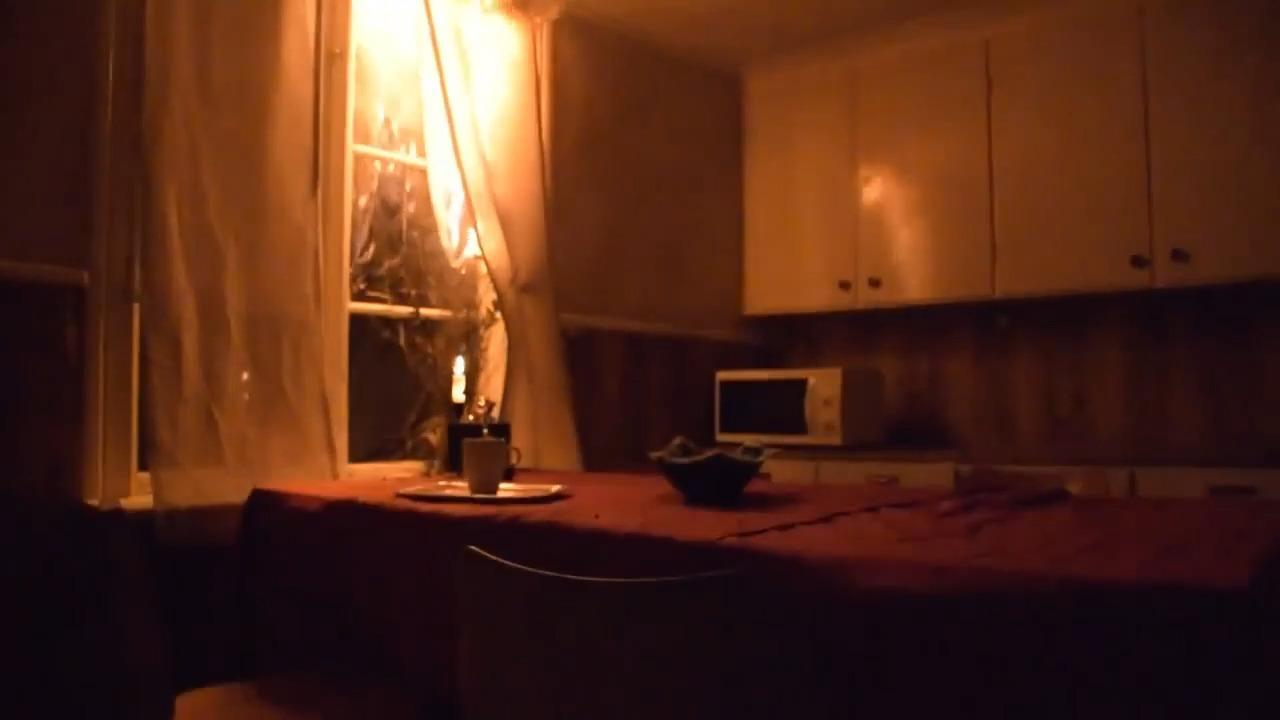fire: (353, 0, 550, 275), (452, 353, 467, 375)
